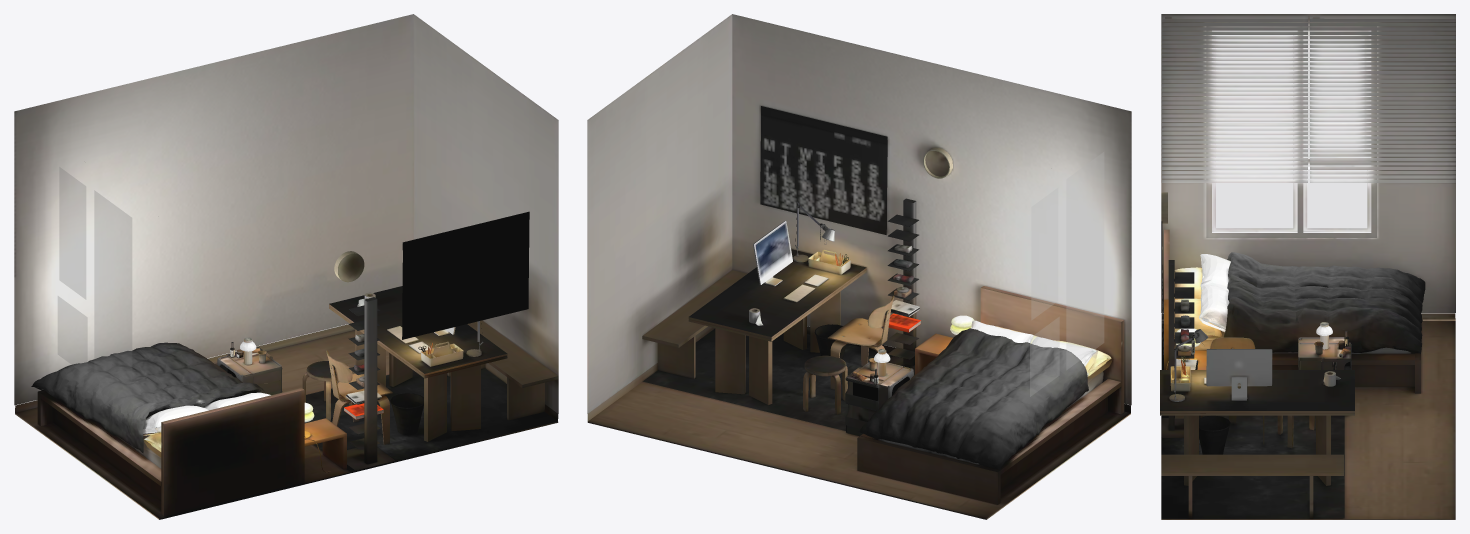
File: compressed_alt2.glb
3 renders of one model, left to right at view 1: azimuth 30°, elevation 25°; view 2: azimuth 150°, elevation 25°; view 3: azimuth 270°, elevation 25°, orthographic.
Visible parts, largest first — view 1: alt2, glass; view 2: alt2, glass; view 3: alt2, glass.
Part boxes in pixels (x1=…): alt2: x1=14, y1=14, x2=558, y2=519; glass: x1=58, y1=167, x2=131, y2=408; alt2: x1=587, y1=14, x2=1131, y2=519; glass: x1=1030, y1=152, x2=1103, y2=396; alt2: x1=1160, y1=14, x2=1455, y2=519; glass: x1=1216, y1=35, x2=1367, y2=228.
Size of the model in its own units: 3.87 by 2.79 by 2.43.
Materials: 2 (1 with a texture image).
